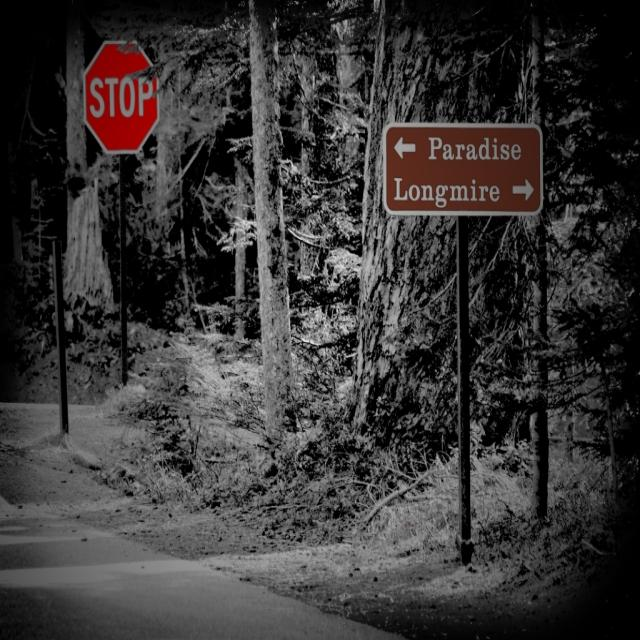Stop-sign: (83, 36, 162, 156)
